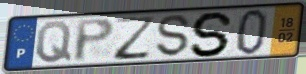0: (234, 7, 270, 57)
P: (73, 16, 117, 64)
Q: (35, 20, 74, 65)
S: (189, 10, 237, 59), (155, 14, 192, 59)
Z: (113, 14, 158, 62)
